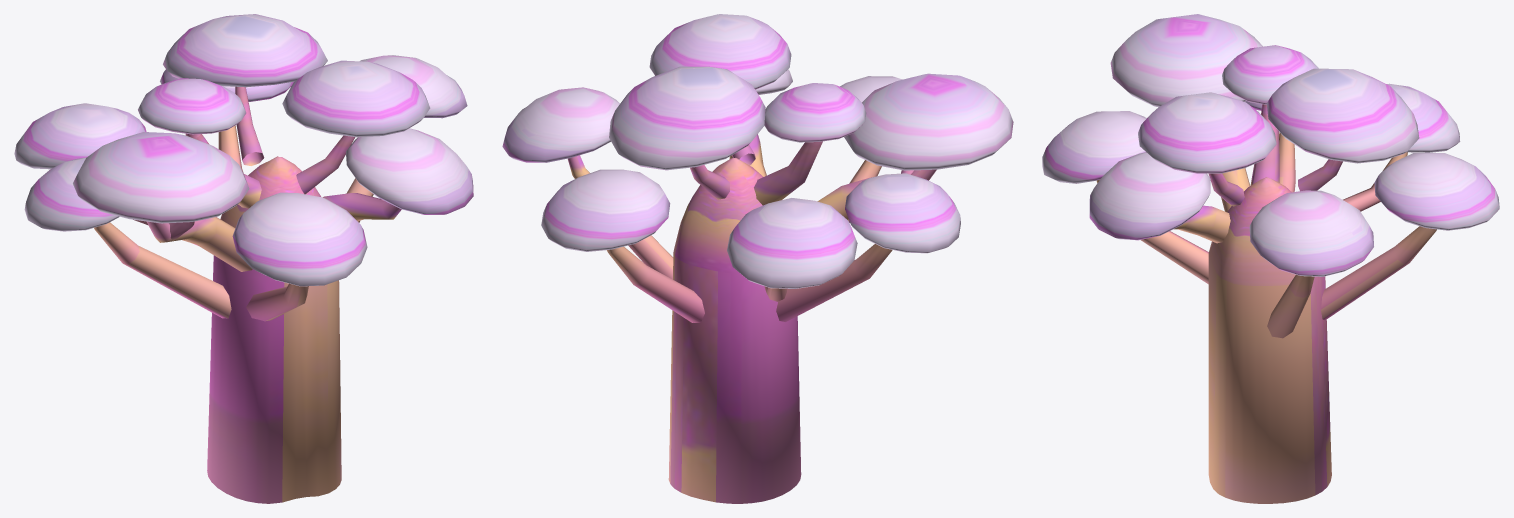
Rendered from grande_seta01.fbx.
3 views of the same model, side by side, from view 1: azimuth 30°, elevation 25°; view 2: azimuth 150°, elevation 25°; view 3: azimuth 270°, elevation 25° (orthographic). The views are drawn at different scales.
Visible parts, largest first — view 1: SetaXL_01; view 2: SetaXL_01; view 3: SetaXL_01.
Boxes of the visible parts, x1,y1,x2,y2 form: SetaXL_01: (14, 14, 473, 503); SetaXL_01: (502, 14, 1013, 503); SetaXL_01: (1042, 14, 1499, 503).
Bounding box in the file's own units: 7548 × 7090 × 7294.
Materials: 1 (1 with a texture image).
